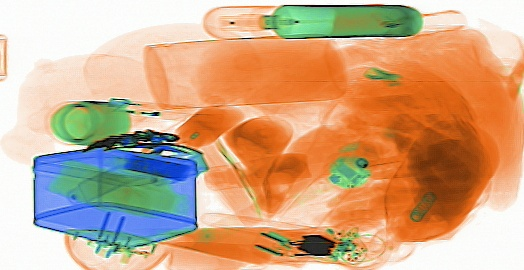lighter: (104, 94, 191, 122)
